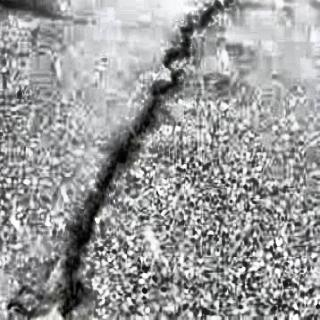alligator-crack: (4, 233, 116, 320), (64, 189, 112, 239), (107, 127, 161, 162), (190, 0, 249, 31), (176, 19, 204, 73), (130, 92, 166, 134), (96, 160, 125, 212), (147, 51, 177, 94)
pothole: (48, 267, 92, 320)
